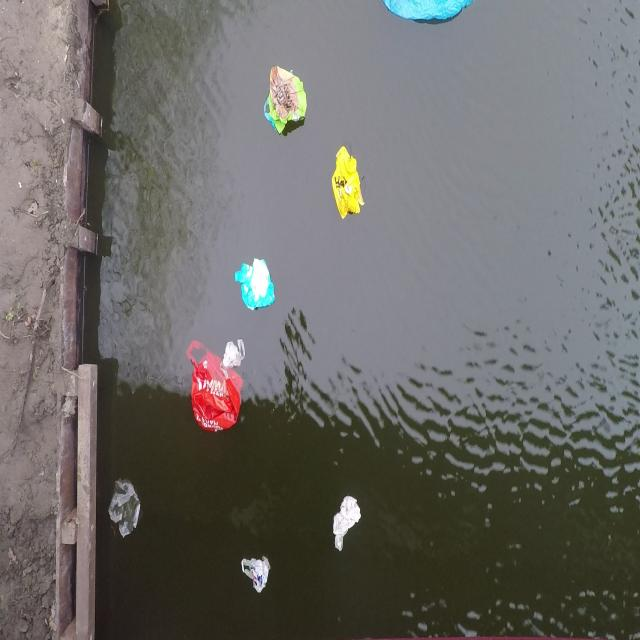Sac plastique: (184, 343, 245, 443), (260, 59, 312, 141), (231, 247, 278, 318), (330, 144, 368, 226), (106, 475, 143, 547), (377, 0, 475, 27), (330, 485, 362, 553), (235, 547, 276, 600), (221, 334, 245, 373)
